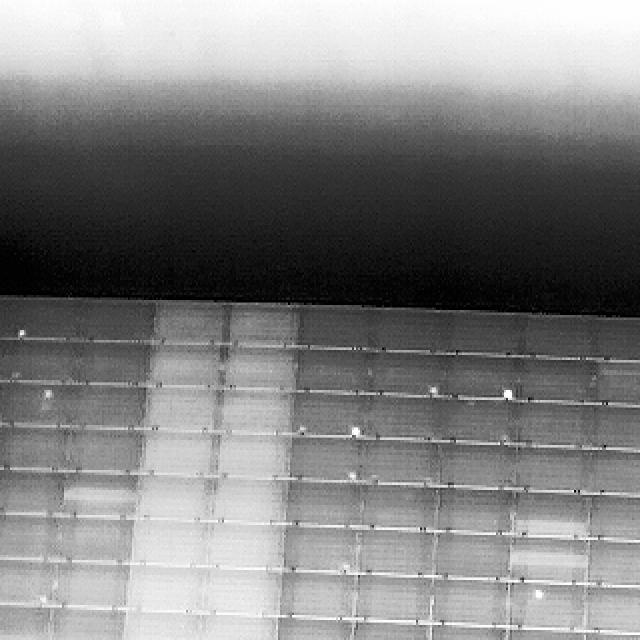Hotspots: (339, 462, 361, 484), (33, 588, 52, 610), (338, 558, 356, 576), (501, 382, 516, 401), (426, 384, 444, 398), (46, 385, 58, 405), (530, 588, 548, 600), (346, 425, 362, 437), (17, 324, 29, 338), (298, 420, 309, 435)
PV-modules: (366, 309, 454, 357), (515, 403, 600, 450), (514, 357, 597, 405), (129, 564, 210, 613), (430, 577, 510, 626), (356, 531, 436, 580), (279, 526, 358, 575), (66, 386, 150, 432), (54, 562, 132, 611), (433, 534, 512, 582), (362, 397, 446, 442), (438, 487, 515, 536), (360, 438, 442, 484), (283, 482, 365, 528), (448, 313, 528, 360), (59, 520, 137, 568), (510, 582, 588, 630), (132, 522, 210, 570), (356, 574, 434, 622), (2, 339, 83, 385), (361, 485, 438, 533), (509, 539, 587, 586), (202, 564, 275, 614), (73, 341, 152, 387), (64, 426, 146, 470), (219, 391, 294, 439), (512, 491, 592, 536), (66, 474, 144, 520), (517, 447, 593, 494), (285, 434, 359, 482), (72, 302, 156, 344), (142, 427, 215, 475), (279, 570, 356, 615), (519, 317, 595, 362), (295, 346, 369, 392), (208, 524, 282, 570), (442, 446, 519, 490), (296, 307, 371, 352), (137, 476, 213, 520), (224, 346, 298, 391), (442, 353, 516, 398), (149, 389, 221, 435), (218, 432, 290, 478), (366, 350, 441, 394), (157, 304, 231, 348), (218, 478, 286, 525), (155, 345, 227, 389), (448, 397, 513, 445), (2, 471, 68, 518), (296, 395, 366, 439), (3, 425, 69, 470), (16, 301, 85, 343), (228, 306, 295, 348), (0, 382, 60, 428), (0, 518, 56, 565), (588, 448, 640, 498), (586, 492, 640, 540), (586, 587, 640, 635), (584, 540, 640, 585), (46, 607, 122, 640), (0, 560, 52, 606), (196, 610, 270, 640), (122, 612, 200, 640), (590, 318, 640, 360), (598, 405, 640, 453), (274, 615, 352, 640), (598, 358, 640, 402), (0, 605, 50, 640), (350, 620, 430, 640), (426, 625, 508, 640), (504, 627, 584, 640), (582, 630, 640, 640)
